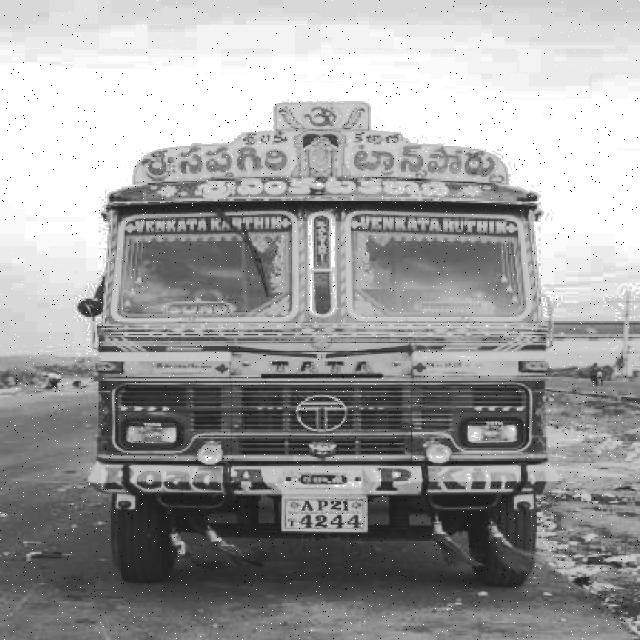HCV: (112, 131, 565, 608)
